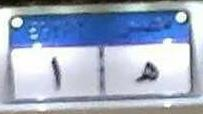1: (46, 53, 66, 92)
haa: (131, 56, 160, 87)
